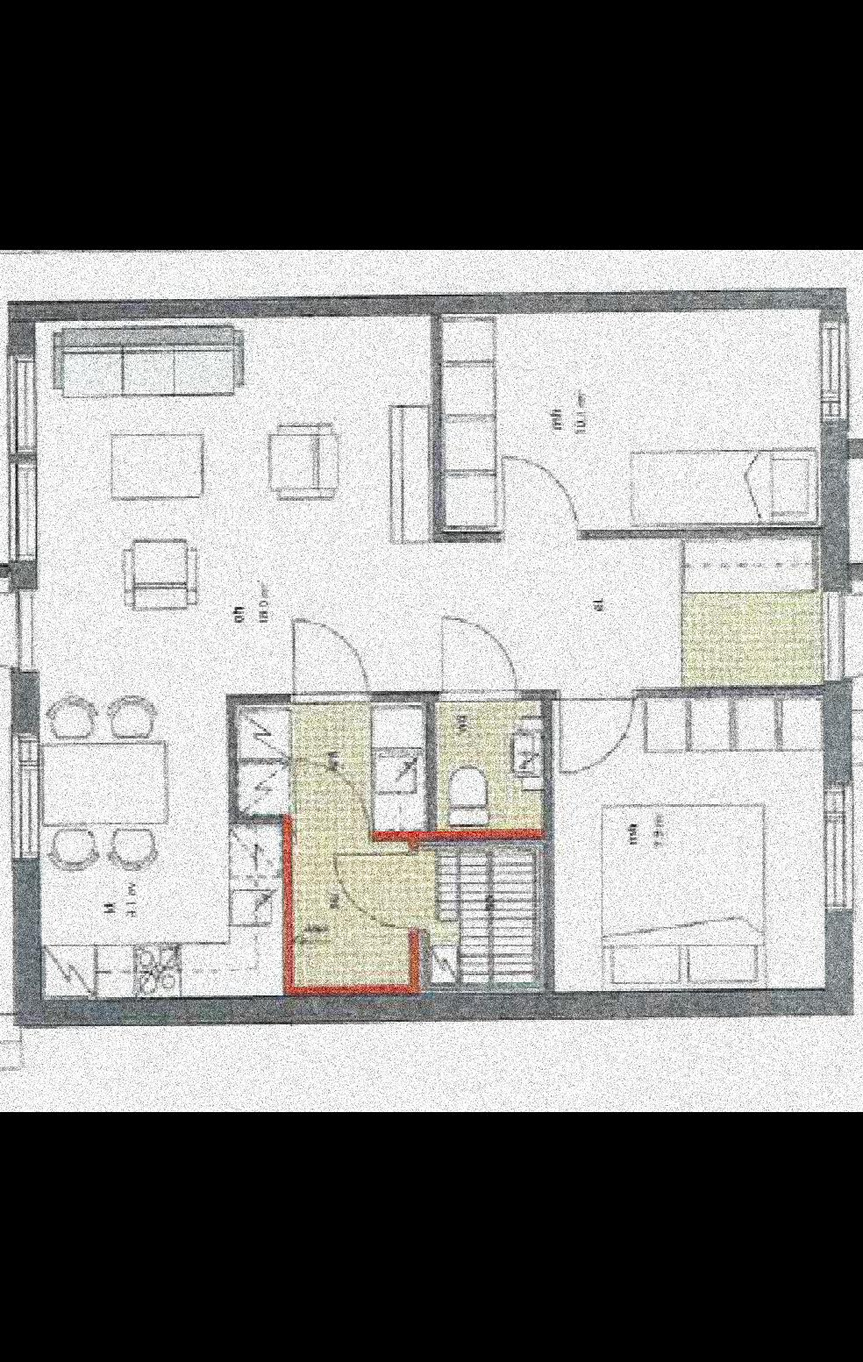door: (505, 449, 585, 545), (556, 691, 640, 782), (435, 615, 521, 703), (285, 618, 371, 703), (822, 584, 863, 681), (0, 581, 40, 674)
window: (11, 734, 45, 873), (826, 778, 852, 915), (13, 359, 38, 454), (823, 322, 844, 423), (13, 464, 33, 559)
zone: (41, 315, 437, 1003), (433, 308, 822, 535), (555, 694, 826, 996), (289, 702, 545, 986), (435, 529, 818, 696), (431, 703, 541, 834)
